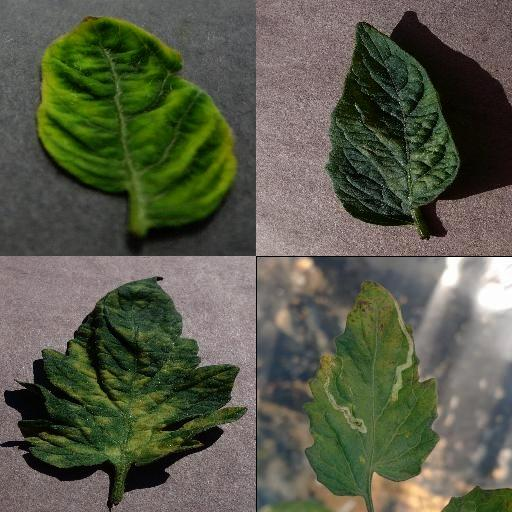Leaf Miner: (300, 279, 442, 497)
Leaf Mold: (16, 275, 248, 469)
Spider Mites: (328, 19, 459, 227)
Yellow Leaf Curl Virus: (38, 13, 238, 227)
